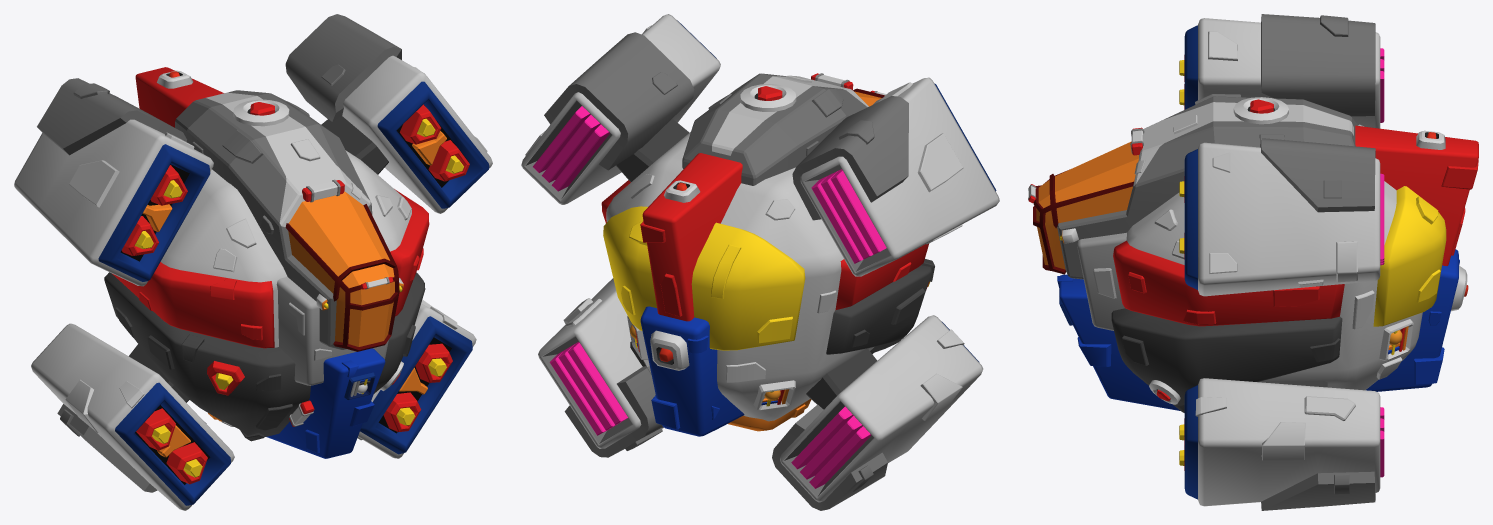
File: Body03.fbx
3 views of the same model, side by side, from view 1: azimuth 30°, elevation 25°; view 2: azimuth 150°, elevation 25°; view 3: azimuth 270°, elevation 25° (orthographic).
Parts seen in each view (by area): view 1: Body03; view 2: Body03; view 3: Body03.
Part boxes in pixels (x1=…): Body03: x1=14, y1=14, x2=492, y2=510; Body03: x1=521, y1=14, x2=999, y2=510; Body03: x1=1028, y1=14, x2=1478, y2=510.
Size of the model in its own units: 569 by 560 by 522.
